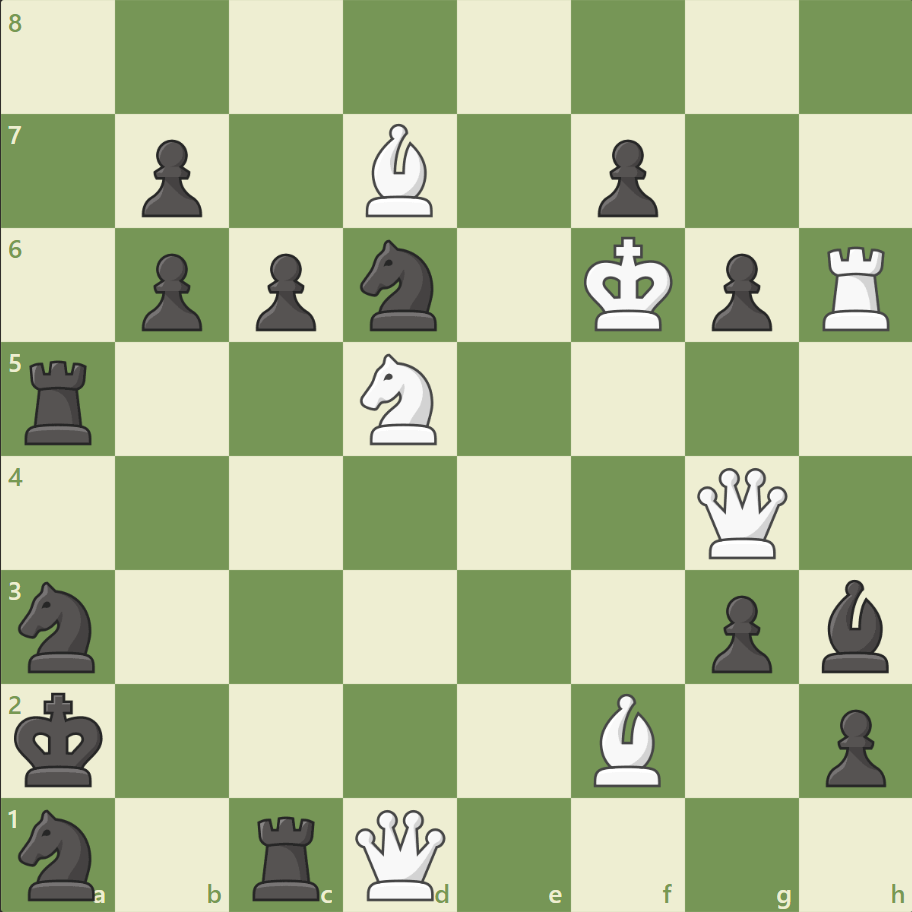B: (585, 687, 669, 790), (358, 120, 442, 222)
K: (579, 231, 679, 339)
N: (351, 348, 449, 450)
Q: (691, 463, 790, 562), (351, 804, 450, 903)
R: (814, 239, 897, 336)
b: (812, 574, 896, 676)
k: (11, 685, 111, 793)
n: (351, 234, 449, 337), (11, 575, 108, 677), (11, 802, 108, 904)
p: (133, 132, 208, 223), (133, 246, 208, 337), (247, 246, 322, 337), (701, 246, 776, 337), (701, 586, 776, 677), (588, 132, 662, 223), (815, 700, 889, 791)
r: (246, 806, 329, 904), (19, 352, 102, 449)
